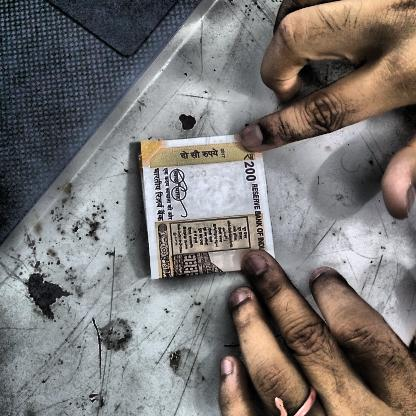Rs200: (241, 151, 259, 185)
